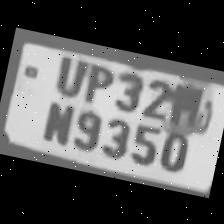0: (153, 121, 193, 172)
2: (135, 72, 177, 122)
3: (96, 109, 135, 159), (108, 63, 147, 112)
5: (124, 116, 164, 166)
9: (66, 101, 105, 151)
N: (36, 93, 76, 144)
P: (77, 56, 118, 104)
U: (47, 50, 88, 98)
